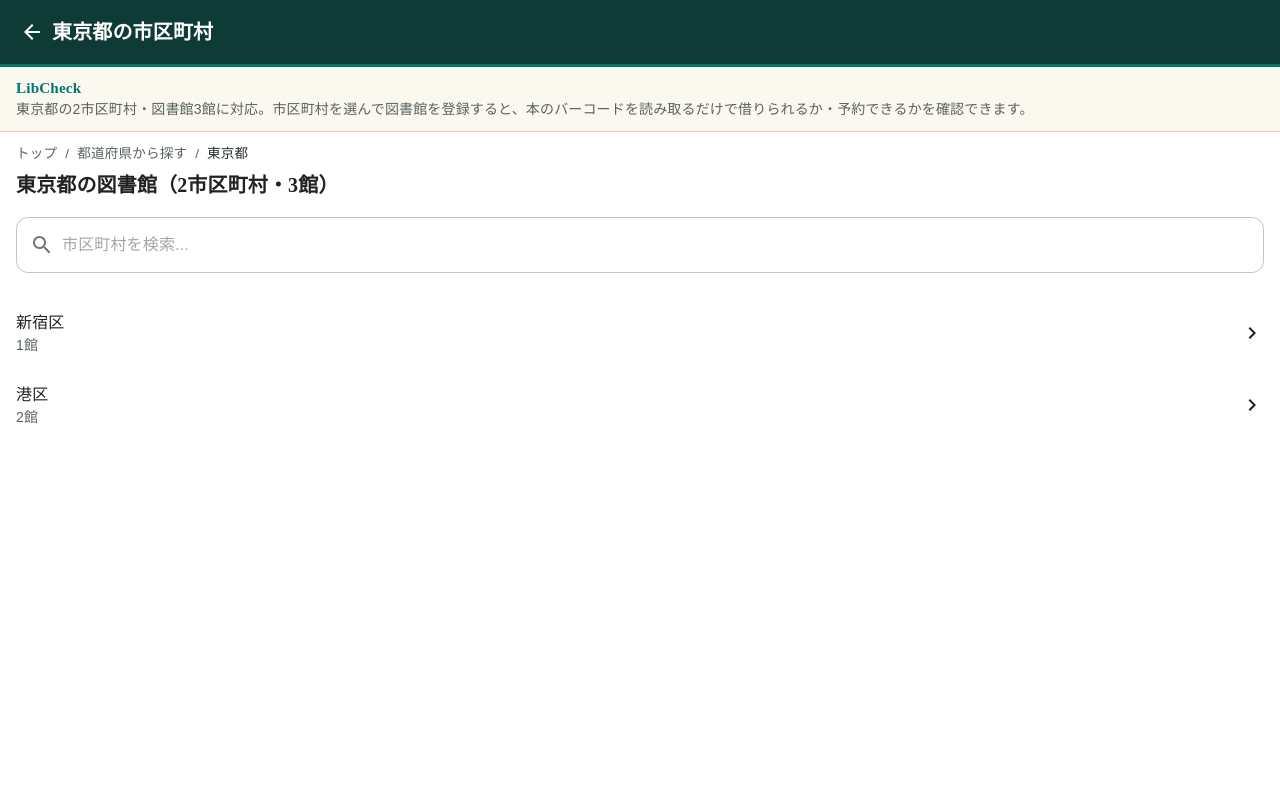
CitySelectionPage › 見出し・パンくず・内部リンク（#182） › 市区町村は館数付きの <a href> で、市区町村ページへ移動できる
Click the link "港区 2館".
click(32, 394)  # box left=16, top=386, right=1264, bottom=425
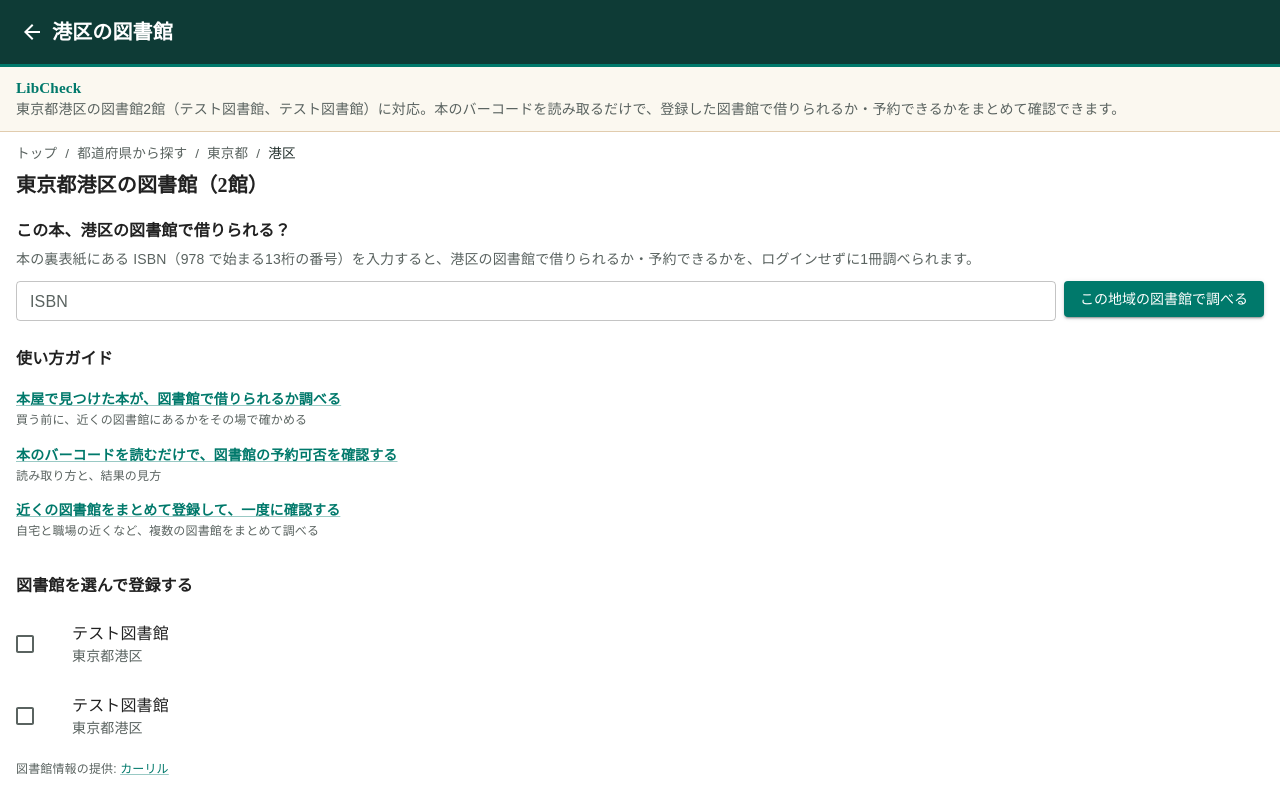
expect the text "港区の図書館" is shown: met, box left=52, top=21, right=173, bottom=43
